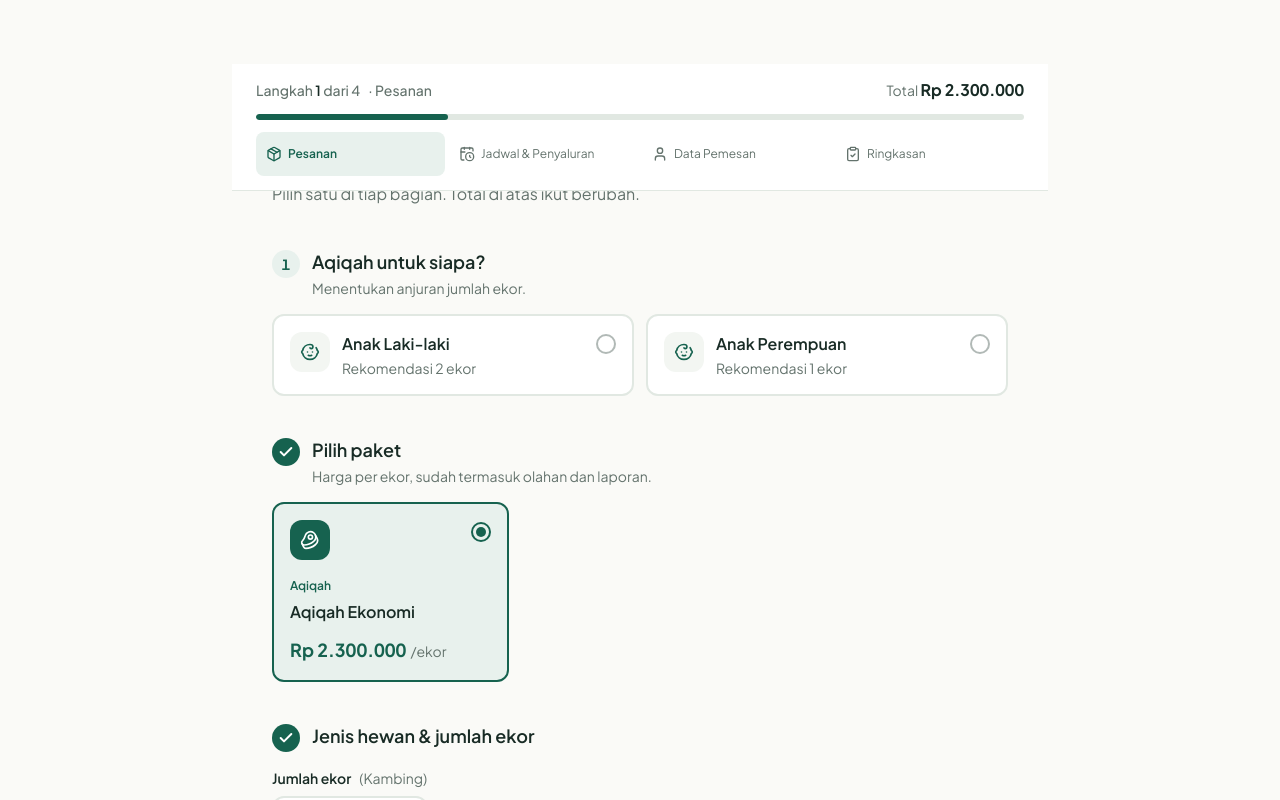
alur empat tahap › Aqiqah Kirim memunculkan pemilih alamat dan mewajibkannya
This screenshot has width=1280, height=800.
What coordinates should you click on to do the following:
click the radio button labelled "Anak Laki-laki Rekomendasi 2 ekor"
I would click on:
 (310, 352)
Its box is [272,314,634,396].
(page scrolled)
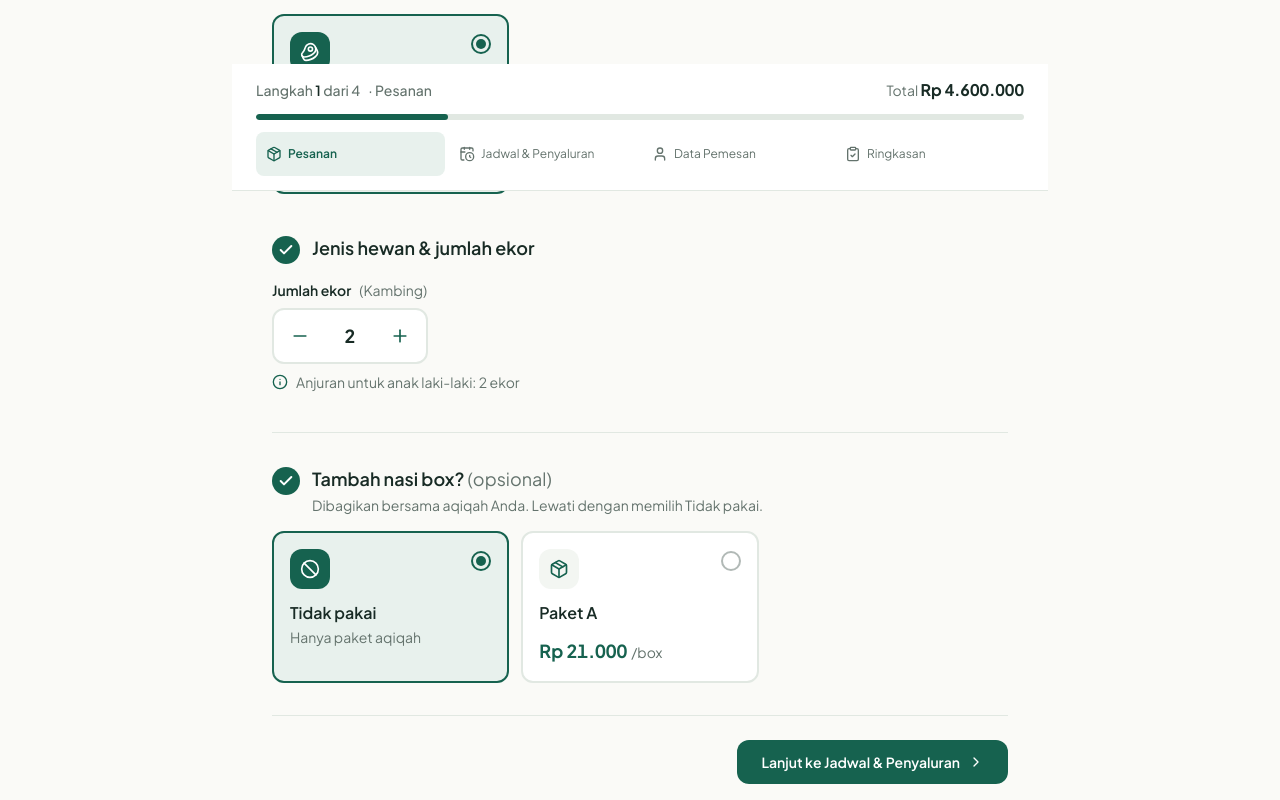
What coordinates should you click on to do the following:
click the button "Lanjut ke Jadwal & Penyaluran"
I would click on:
 (873, 762)
Its box is [738,740,1008,784].
(page scrolled)
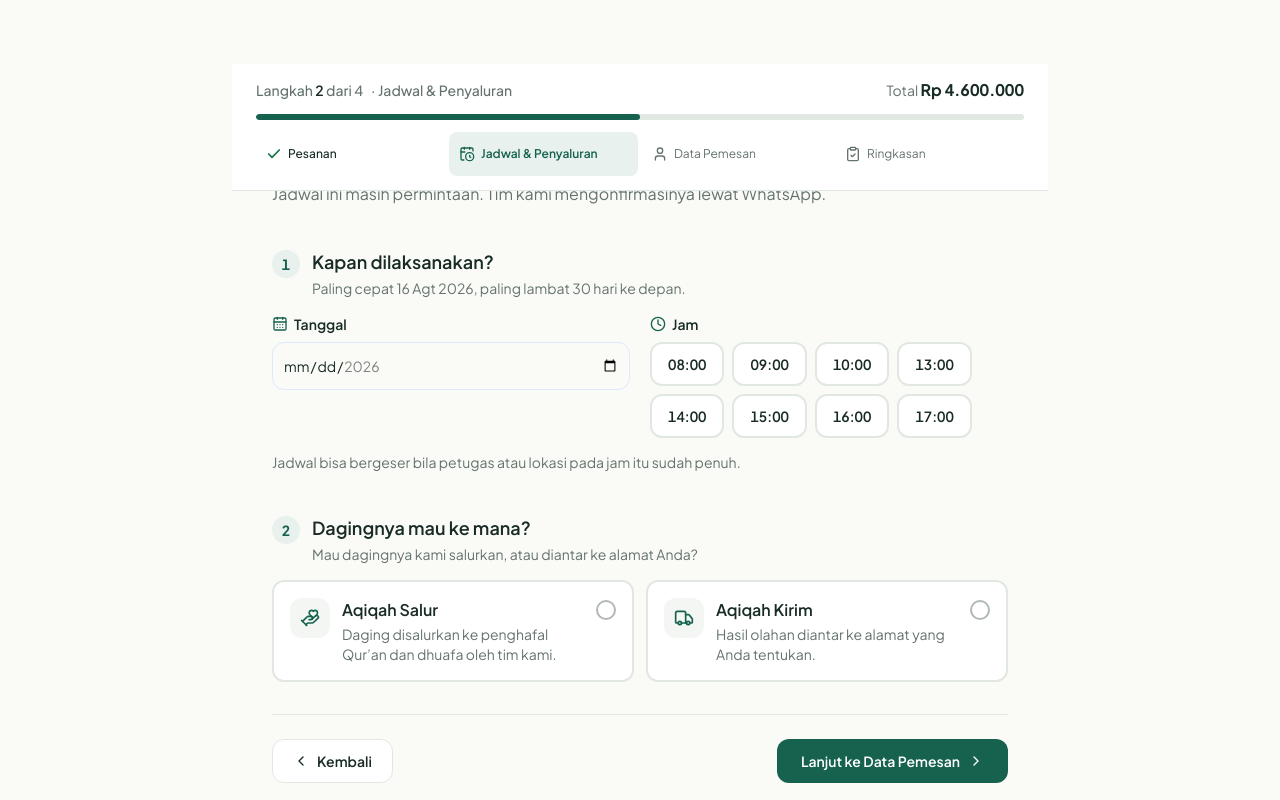
What coordinates should you click on to do the following:
click the radio button that starts with "Aqiqah Kirim"
I would click on:
 (827, 631)
Its box is [646,580,1008,682].
(page scrolled)
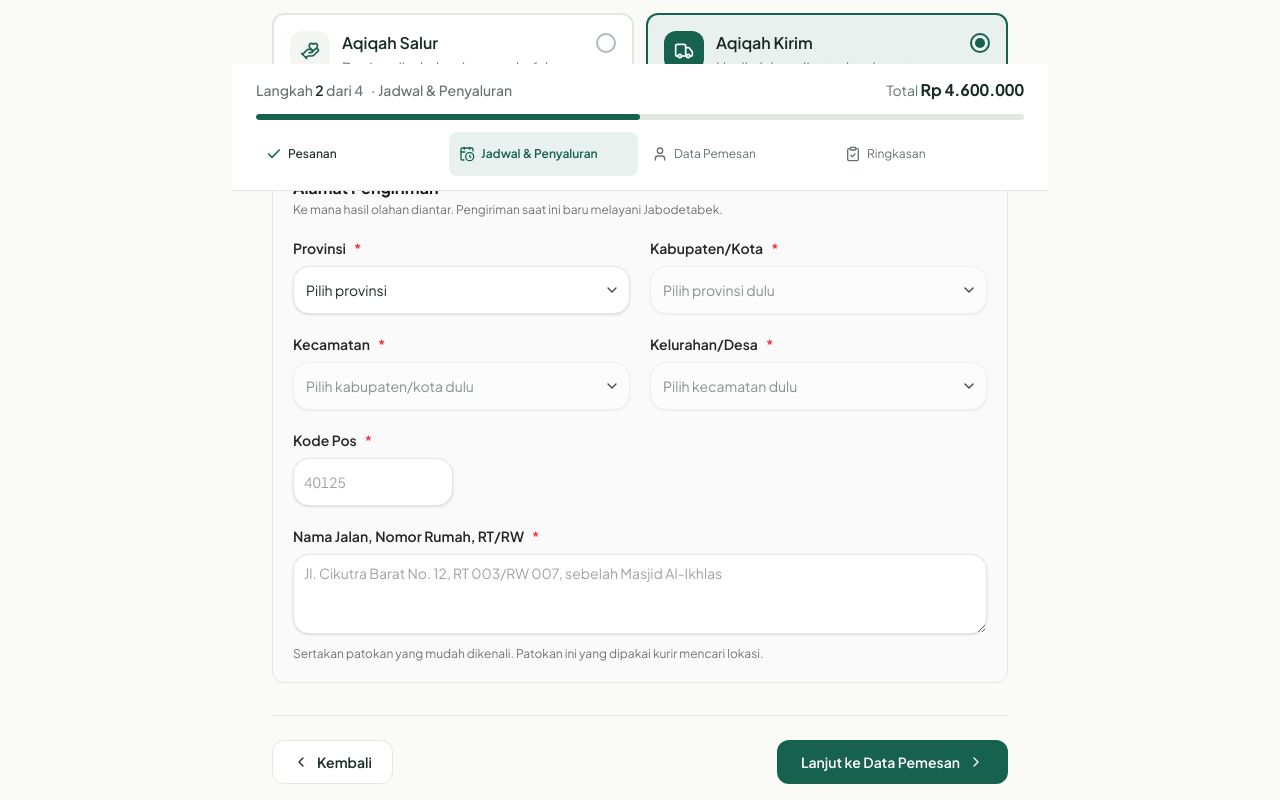
Check: the dropdown with id "co-prov" is shown, box [293,266,630,314]
Check: the dropdown with id "co-city" is shown, box [650,266,987,314]
Check: the dropdown with id "co-dist" is shown, box [293,362,630,410]
What coordinates should you click on to do the following:
click the button "Lanjut ke Data Pemesan"
I would click on:
 (892, 762)
Its box is [777,740,1008,784].
(page scrolled)
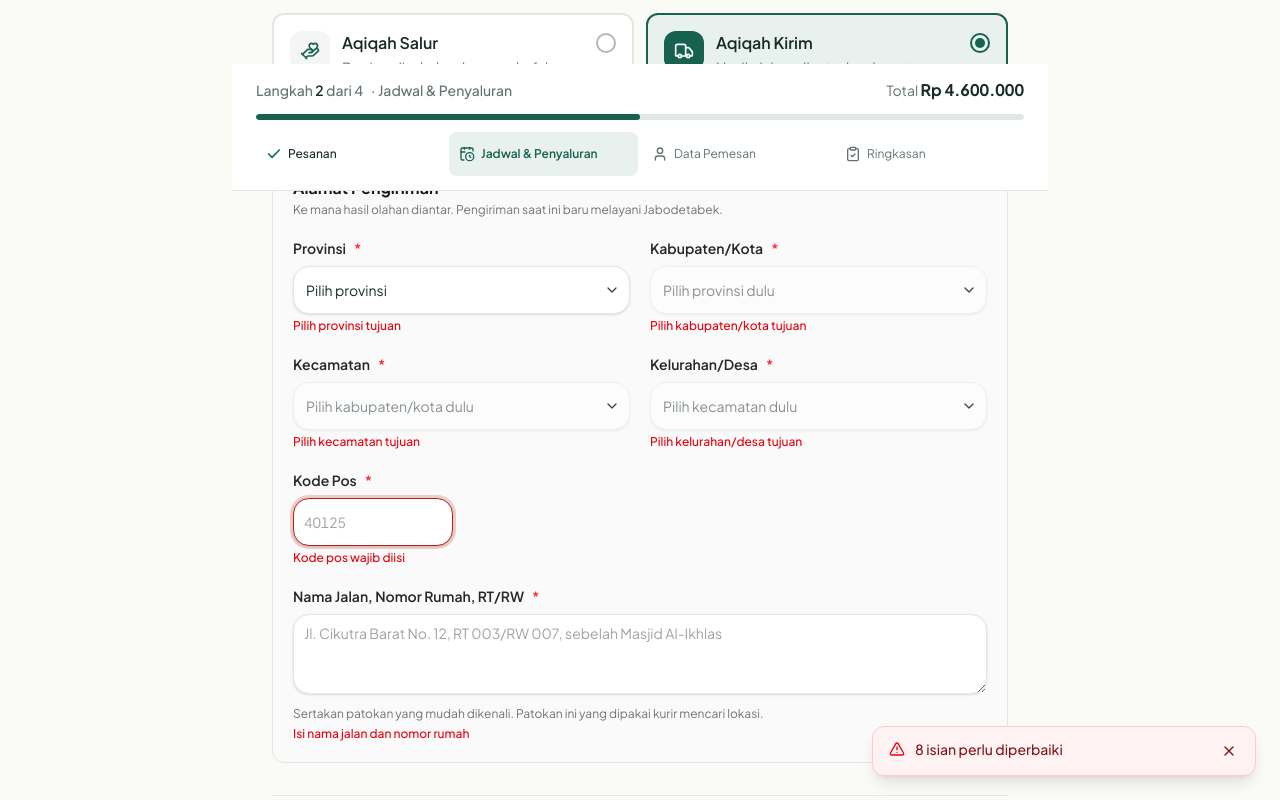
Check: the text "Pilih provinsi tujuan" is shown, box [293,318,401,333]
Check: the text "Kode pos wajib diisi" is shown, box [293,550,405,565]
Check: the text "Isi nama jalan dan nomor rumah" is shown, box [293,726,469,741]
